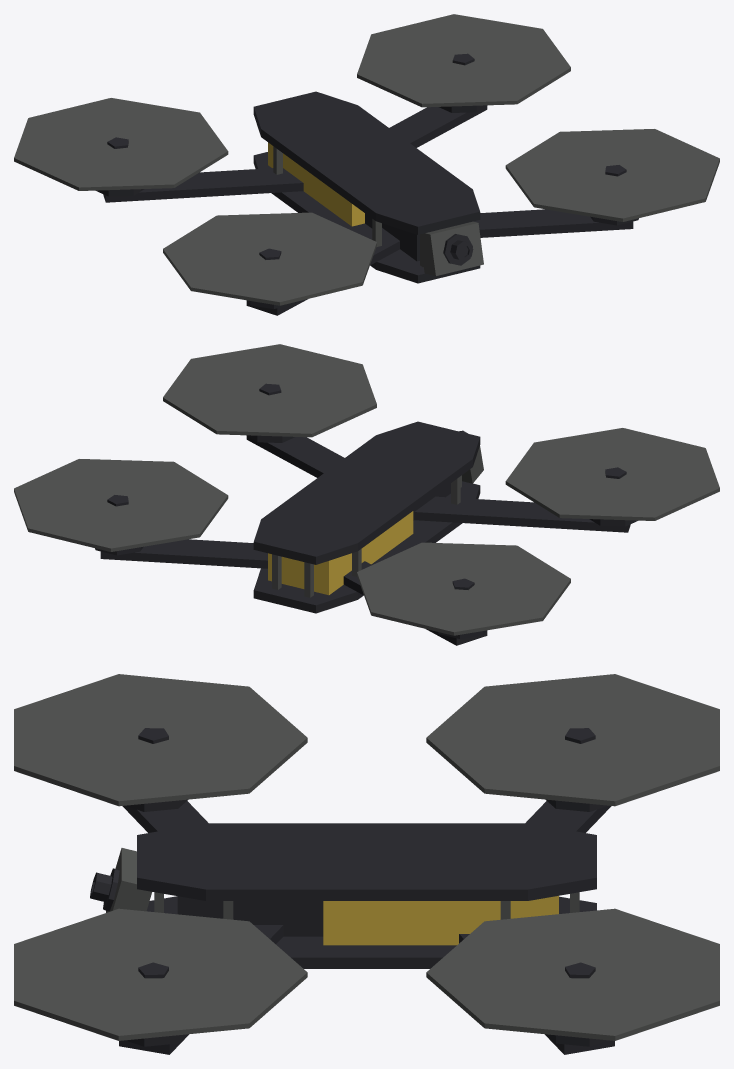
The model's file is LPWarPack_FPV_Drone.fbx.
The picture shows the model from 3 angles, top to bottom: view 1: azimuth 30°, elevation 25°; view 2: azimuth 150°, elevation 25°; view 3: azimuth 270°, elevation 25°; orthographic projection. The views are drawn at different scales.
Parts seen in each view (by area): view 1: FPV_Drone; view 2: FPV_Drone; view 3: FPV_Drone.
Part boxes in pixels (<box>): FPV_Drone: <box>14,14,719,315</box>; FPV_Drone: <box>14,344,719,645</box>; FPV_Drone: <box>14,674,719,1054</box>.
Bounding box in the file's own units: 51.22 × 5.57 × 42.22.
